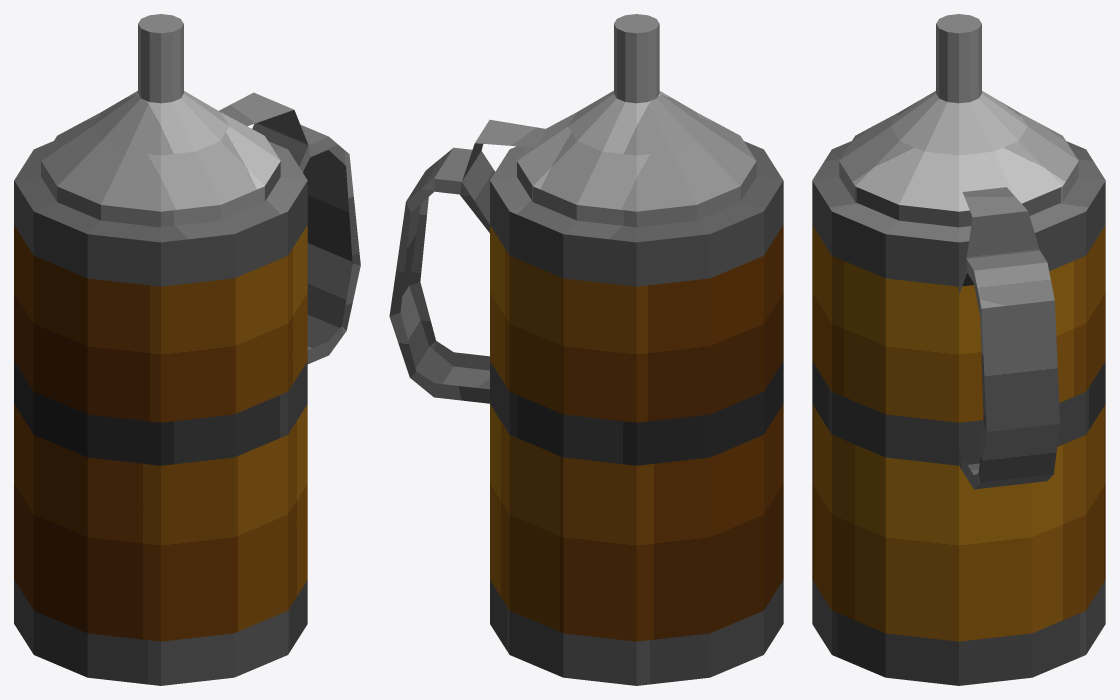
File: bottle_616x13.gltf
The picture shows the model from 3 angles, left to right: view 1: azimuth 30°, elevation 25°; view 2: azimuth 150°, elevation 25°; view 3: azimuth 270°, elevation 25°; orthographic projection.
Visible parts, largest first — view 1: bottle_616x13; view 2: bottle_616x13; view 3: bottle_616x13.
Boxes of the visible parts, bbox=[...] form: bottle_616x13: bbox=[14, 14, 360, 685]; bottle_616x13: bbox=[389, 14, 783, 685]; bottle_616x13: bbox=[812, 14, 1105, 685].
Bounding box in the file's own units: 0.8044 × 1.35 × 0.6.
1 material, 1 textured.
